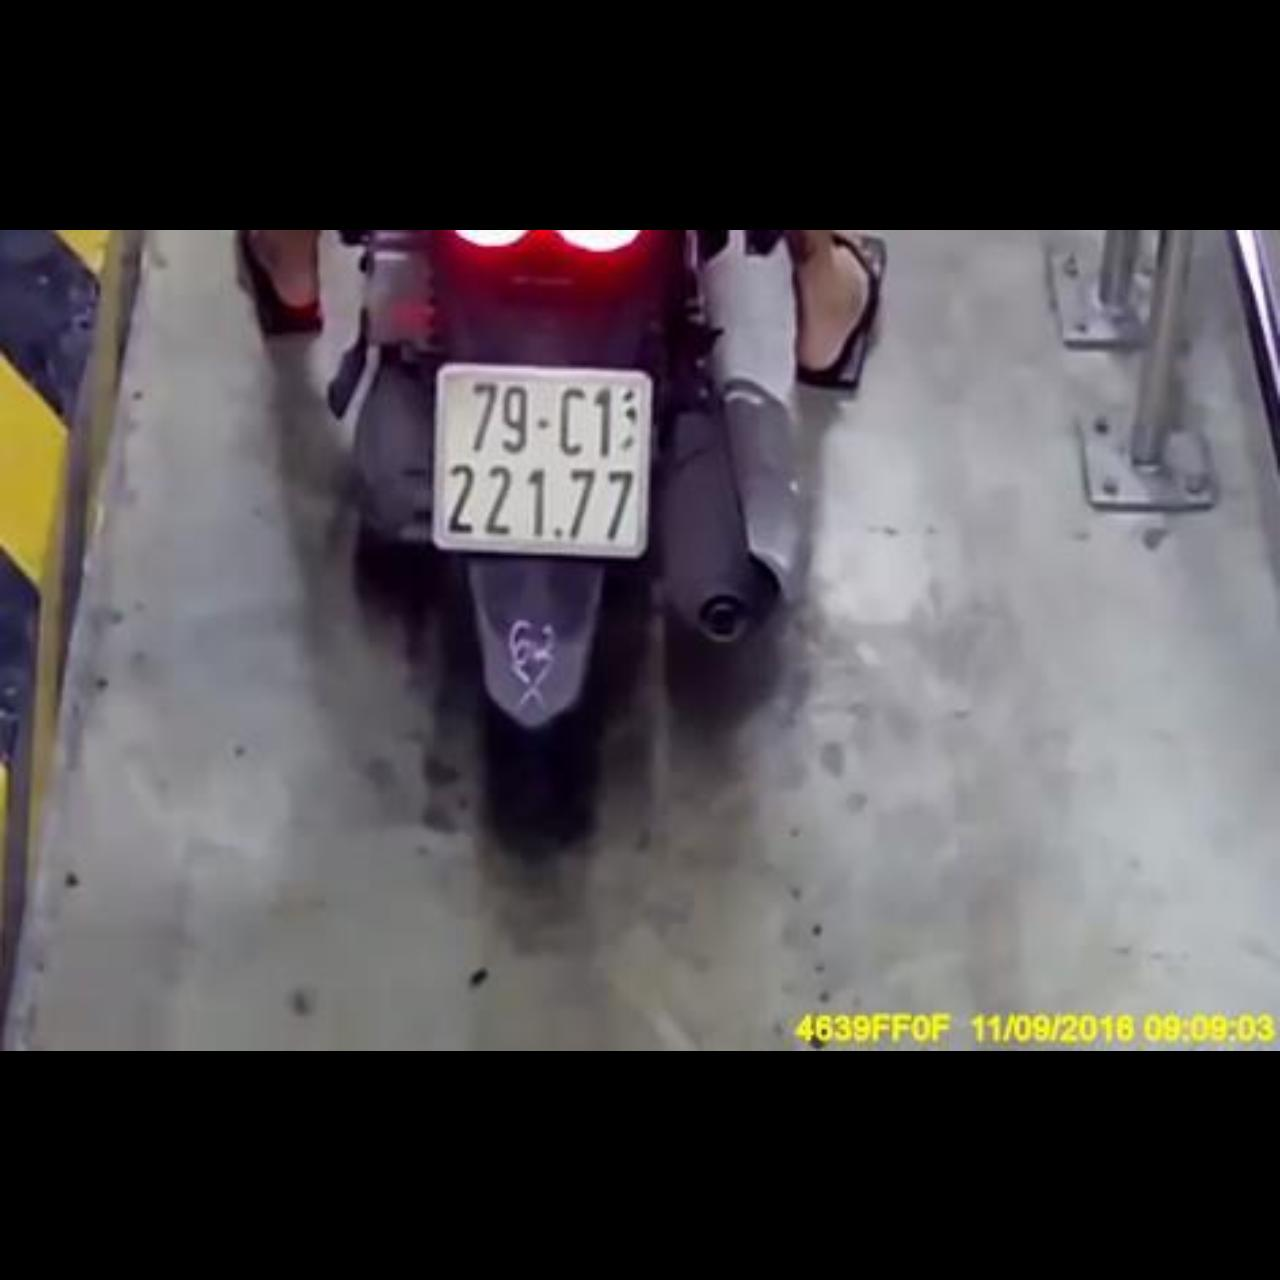bienso: (428, 351, 654, 559)
